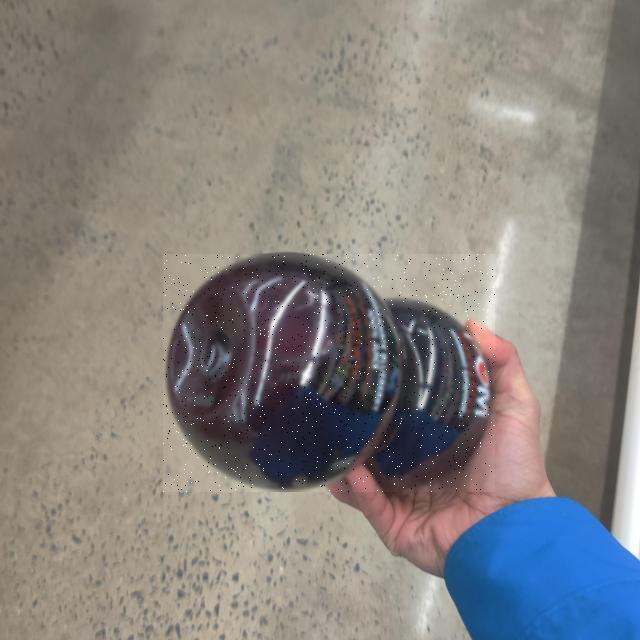Juice: (163, 254, 495, 492)
